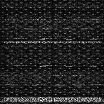lte: (1, 96, 104, 102), (1, 40, 104, 44)
